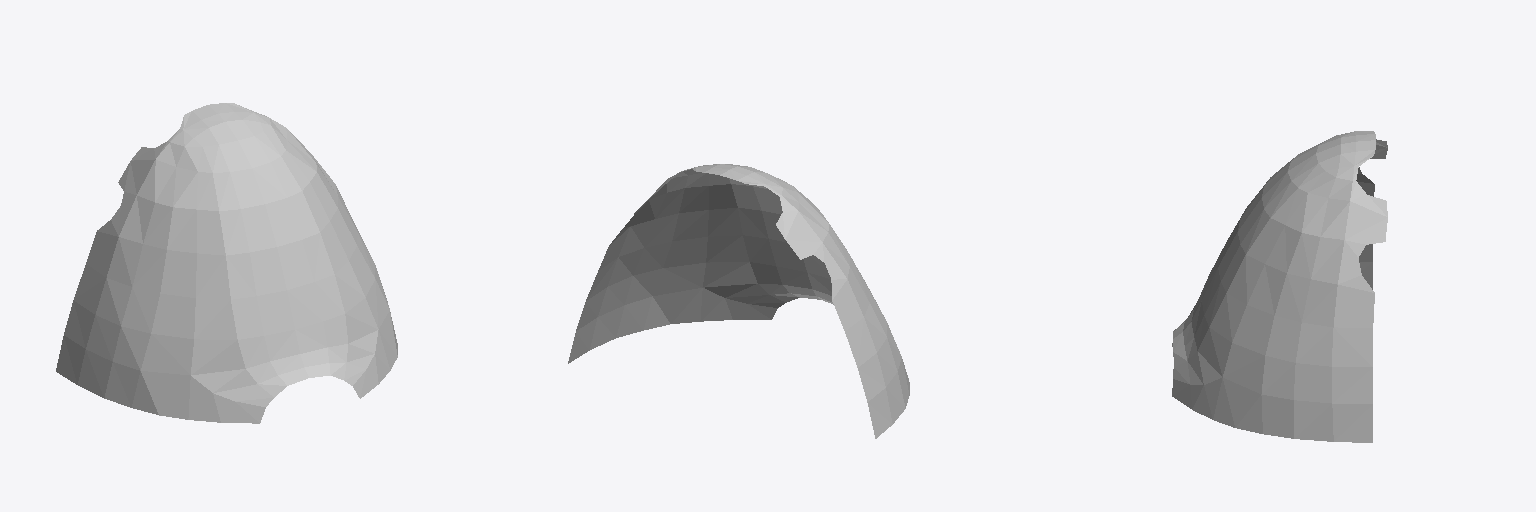
The model's file is eyes.obj.
3 views of the same model, side by side, from view 1: azimuth 30°, elevation 25°; view 2: azimuth 150°, elevation 25°; view 3: azimuth 270°, elevation 25° (orthographic).
Parts seen in each view (by area): view 1: Body__mEye; view 2: Body__mEye; view 3: Body__mEye.
Boxes of the visible parts, x1=… form: Body__mEye: x1=56, y1=103, x2=397, y2=423; Body__mEye: x1=568, y1=164, x2=909, y2=438; Body__mEye: x1=1172, y1=131, x2=1387, y2=442.
Bounding box in the file's own units: 5.09 × 3.67 × 3.1.